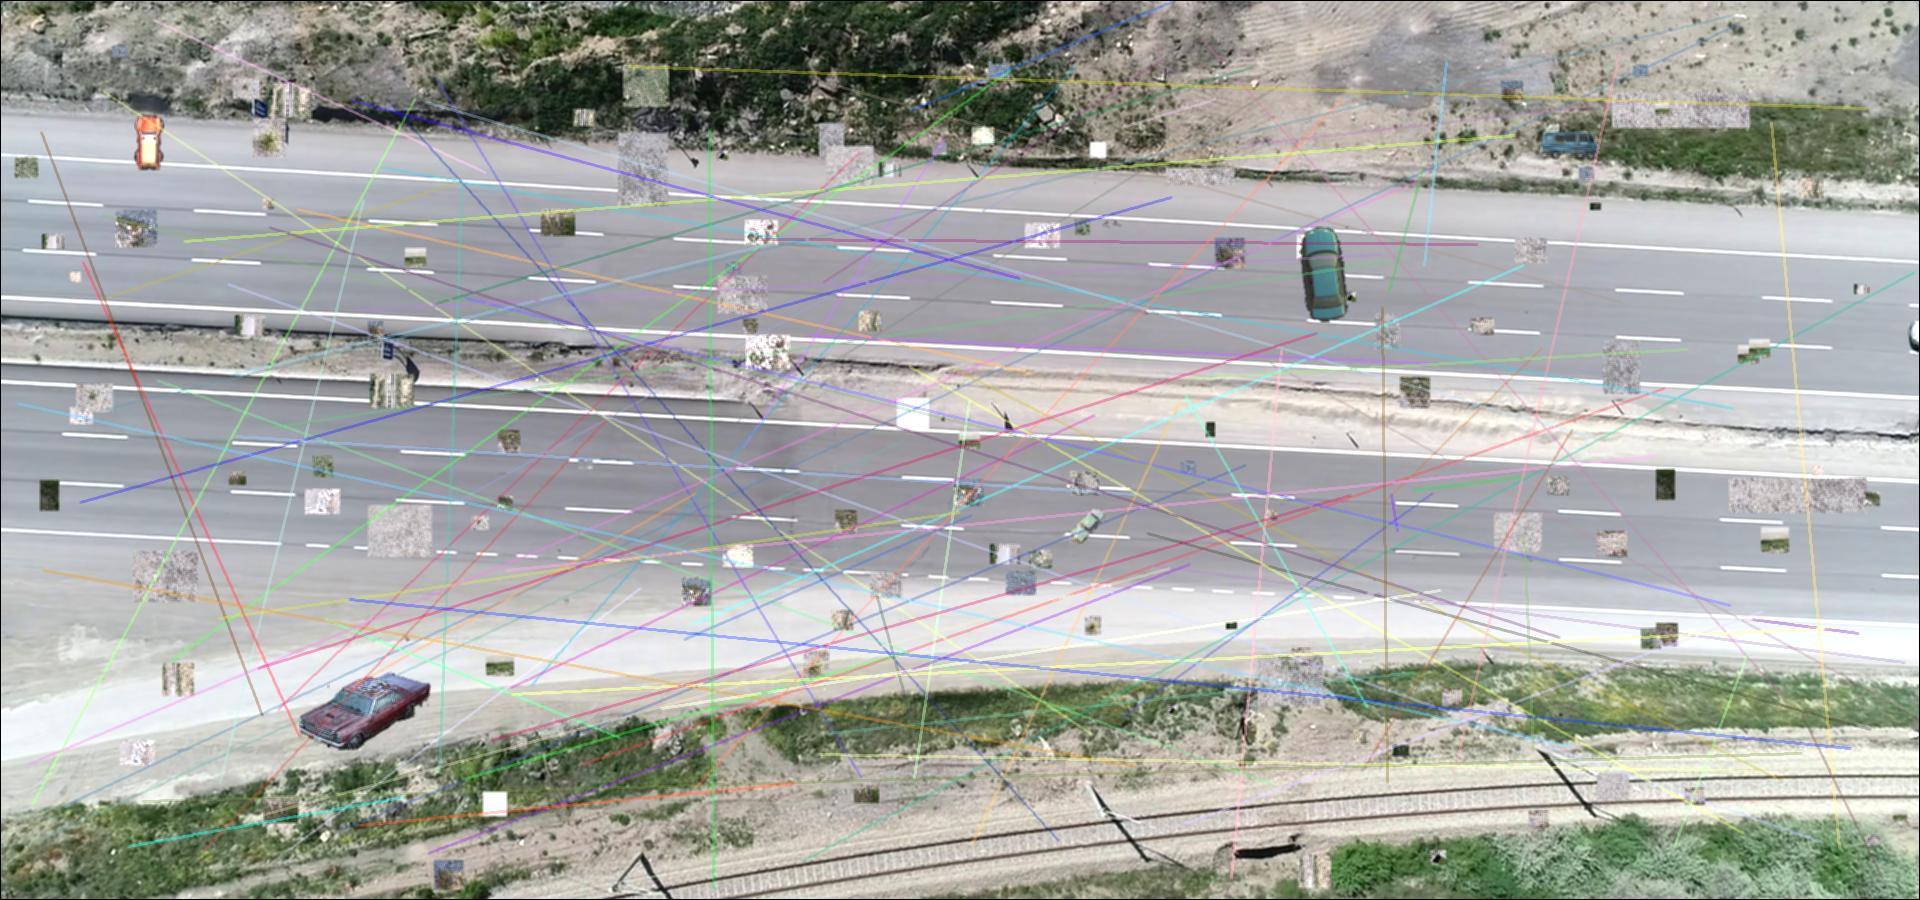arac: (300, 669, 431, 752), (1300, 227, 1349, 322), (133, 114, 165, 171), (1540, 131, 1599, 160), (1071, 504, 1106, 544)
